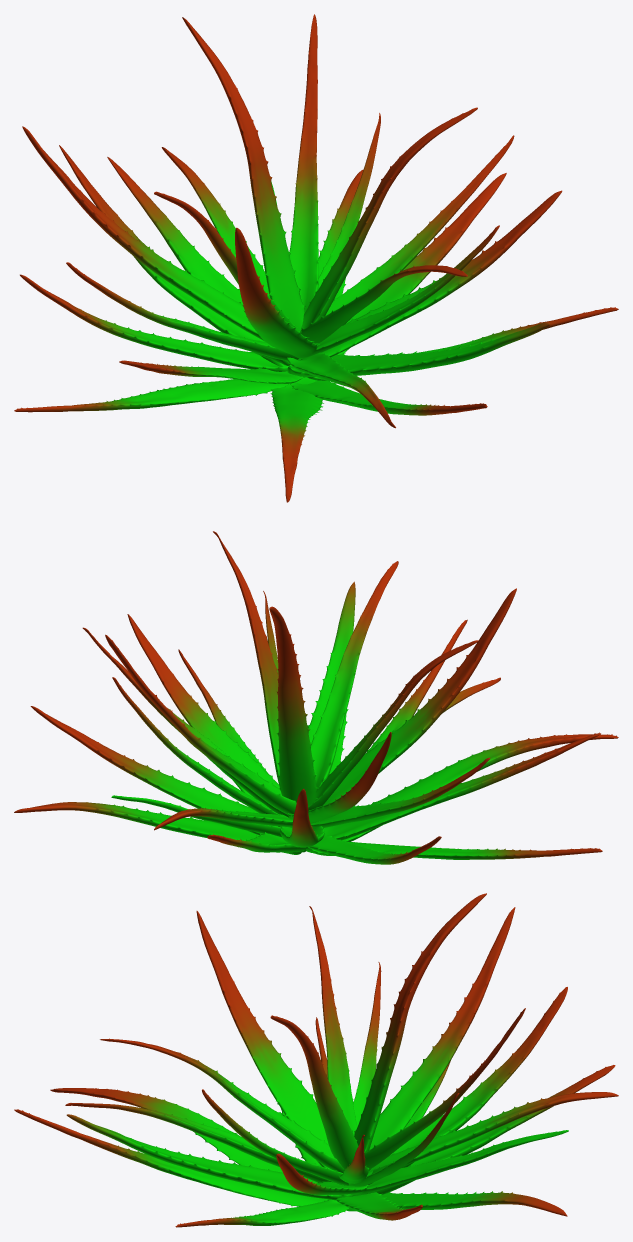
The model's file is Aloe Vera_LOD1_Var6_ve4tbbrha.fbx.
3 renders of one model, top to bottom at view 1: azimuth 30°, elevation 25°; view 2: azimuth 150°, elevation 25°; view 3: azimuth 270°, elevation 25°, orthographic. The views are drawn at different scales.
Parts seen in each view (by area): view 1: _n3lg_Var6_LOD1; view 2: _n3lg_Var6_LOD1; view 3: _n3lg_Var6_LOD1.
Part boxes in pixels (bbox=[...]): _n3lg_Var6_LOD1: bbox=[14, 14, 618, 502]; _n3lg_Var6_LOD1: bbox=[14, 531, 618, 864]; _n3lg_Var6_LOD1: bbox=[14, 893, 618, 1227].
Size of the model in its own units: 86.78 by 48.94 by 90.05.
